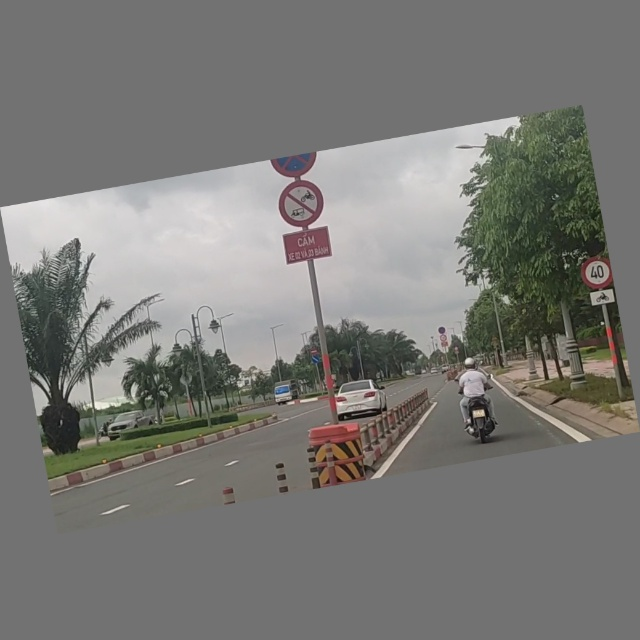P.111: (269, 177, 327, 230)
P.127*40: (580, 255, 614, 292)
S.505a*Xe may: (588, 287, 616, 307)
